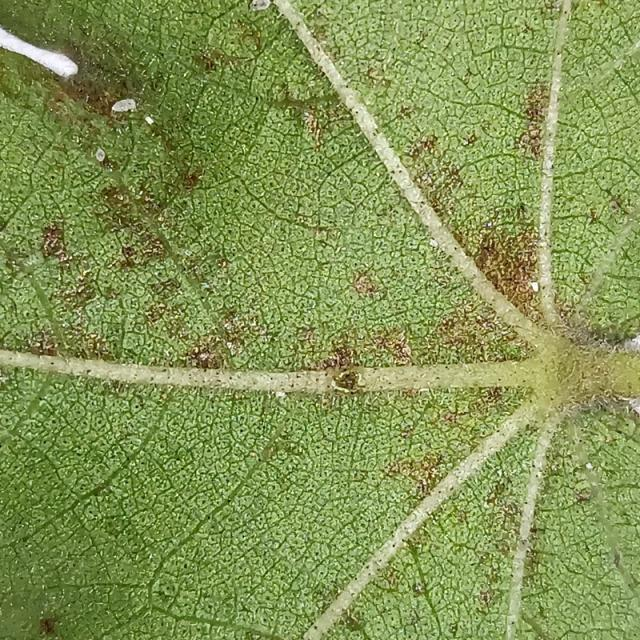Bacterial_Blight: (536, 332, 637, 409), (467, 221, 546, 312), (401, 133, 472, 227), (61, 69, 147, 131), (131, 565, 216, 624), (429, 303, 510, 362), (399, 541, 448, 634), (454, 97, 548, 138), (76, 450, 139, 505), (386, 450, 449, 497), (564, 316, 636, 354), (208, 468, 260, 517), (517, 85, 551, 158), (275, 89, 332, 132), (112, 231, 169, 272), (219, 308, 268, 353), (55, 264, 98, 310), (173, 338, 221, 378), (440, 394, 501, 425), (369, 326, 415, 367), (195, 44, 253, 74), (98, 183, 139, 222), (332, 359, 363, 408), (39, 217, 65, 273), (261, 432, 305, 465), (318, 344, 362, 376), (232, 19, 266, 55), (2, 243, 38, 276), (406, 134, 441, 166), (78, 330, 115, 360), (484, 477, 514, 513), (301, 106, 326, 149), (28, 327, 64, 356), (520, 611, 561, 636), (351, 271, 383, 299), (475, 239, 501, 273), (143, 298, 173, 325), (149, 275, 180, 300), (308, 224, 341, 247), (33, 613, 65, 635), (550, 320, 582, 340), (364, 64, 390, 87), (295, 324, 319, 348), (119, 244, 140, 268), (181, 171, 204, 192), (613, 550, 629, 579), (94, 150, 115, 172), (341, 611, 364, 631), (260, 441, 280, 461), (389, 163, 410, 182), (155, 580, 175, 598), (610, 195, 626, 213), (398, 104, 414, 119), (461, 132, 477, 147), (250, 0, 270, 12), (574, 489, 592, 502), (399, 424, 414, 439), (588, 207, 599, 223), (479, 591, 491, 605), (517, 202, 528, 217), (218, 258, 230, 271), (95, 148, 106, 162), (201, 281, 215, 292), (0, 373, 8, 385), (413, 584, 422, 594), (423, 172, 432, 182), (275, 391, 286, 399), (33, 340, 42, 349), (249, 450, 259, 458), (226, 341, 234, 349), (586, 462, 594, 470), (349, 590, 356, 598), (182, 562, 188, 569), (226, 497, 232, 504), (390, 169, 396, 175)
Cotton: (0, 0, 639, 639), (292, 0, 558, 330), (555, 0, 639, 306)
